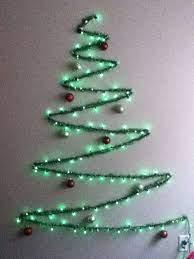Lamp: (19, 12, 193, 249)
